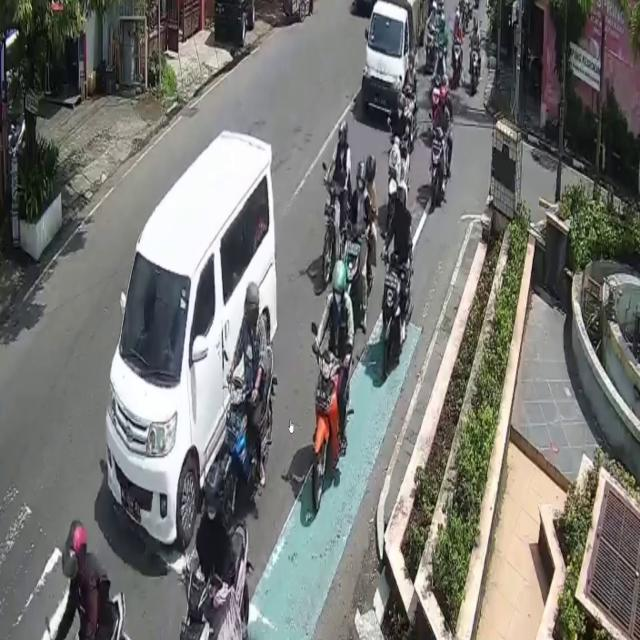bus: (222, 344, 277, 520), (177, 523, 252, 640), (311, 352, 352, 511), (378, 254, 404, 372), (320, 176, 345, 274), (388, 136, 408, 206), (431, 126, 443, 218)
motorcycle: (100, 132, 275, 544), (374, 0, 425, 95)
